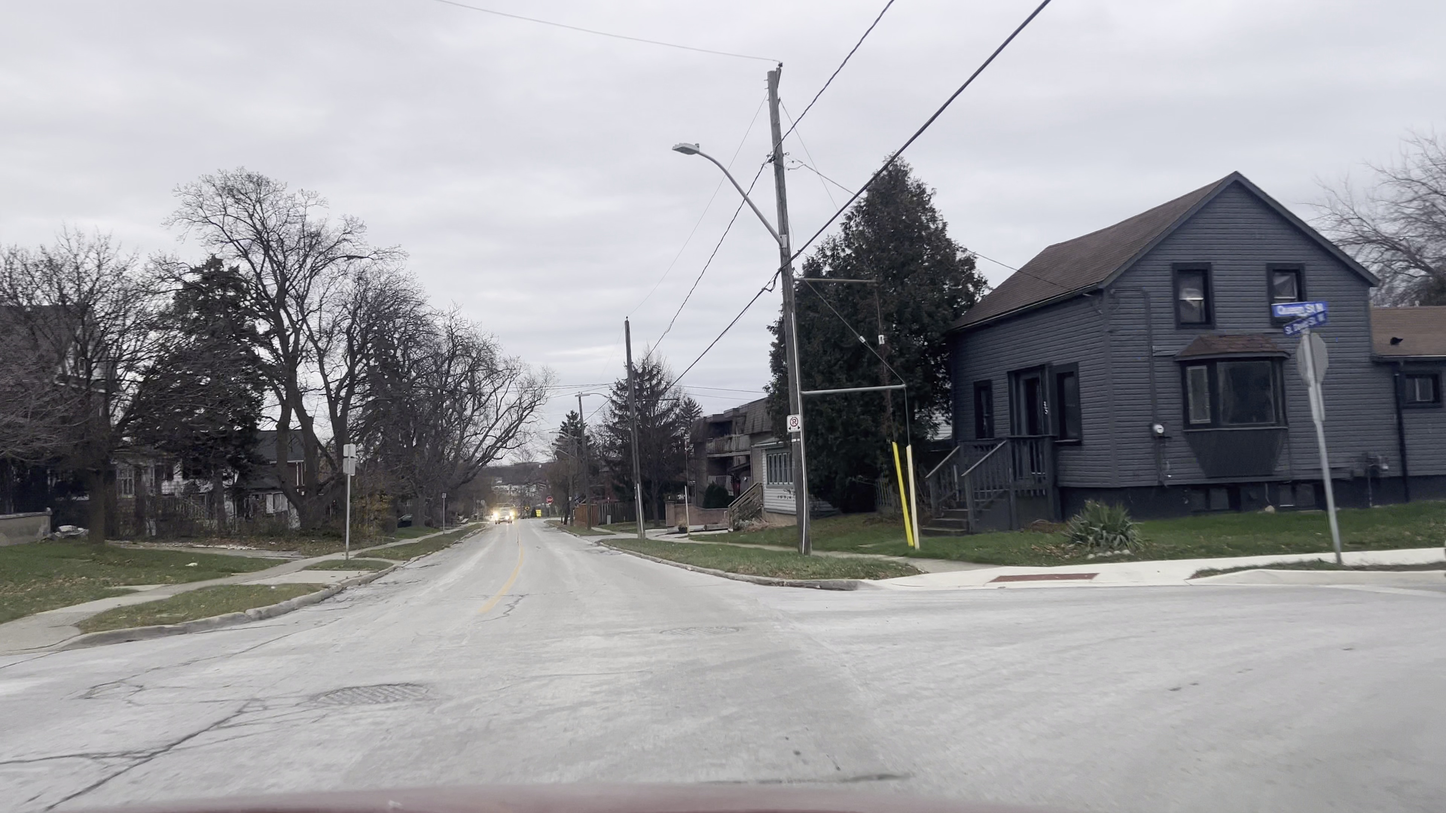cracks: (58, 734, 176, 800), (201, 692, 276, 744)
